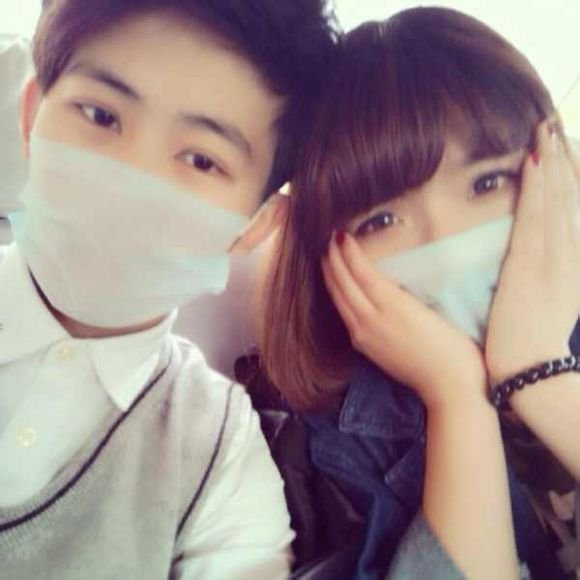face_mask: (27, 13, 266, 311), (330, 106, 549, 380)
